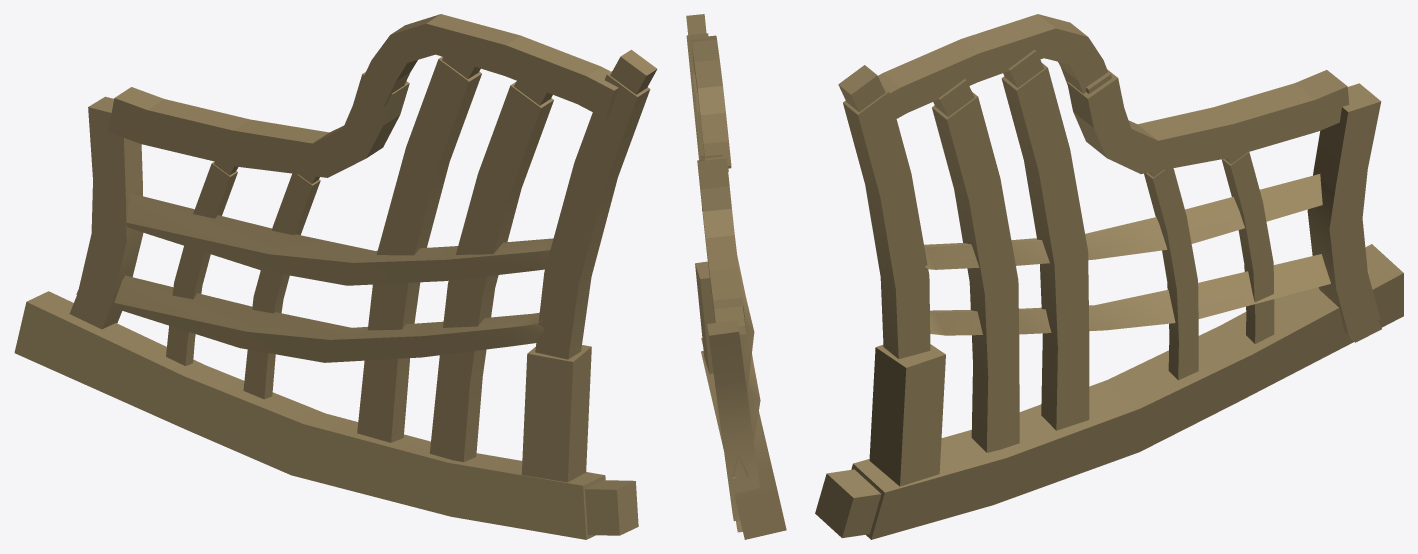
Rendered from gate R.fbx.
3 views of the same model, side by side, from view 1: azimuth 30°, elevation 25°; view 2: azimuth 150°, elevation 25°; view 3: azimuth 270°, elevation 25° (orthographic). The views are drawn at different scales.
Visible parts, largest first — view 1: gate; view 2: gate; view 3: gate.
Part boxes in pixels (x1=…): gate: x1=14, y1=14, x2=657, y2=539; gate: x1=686, y1=14, x2=786, y2=539; gate: x1=815, y1=14, x2=1403, y2=539.
Bounding box in the file's own units: 2.63e-05 × 3.1e-05 × 3.43e-05.
